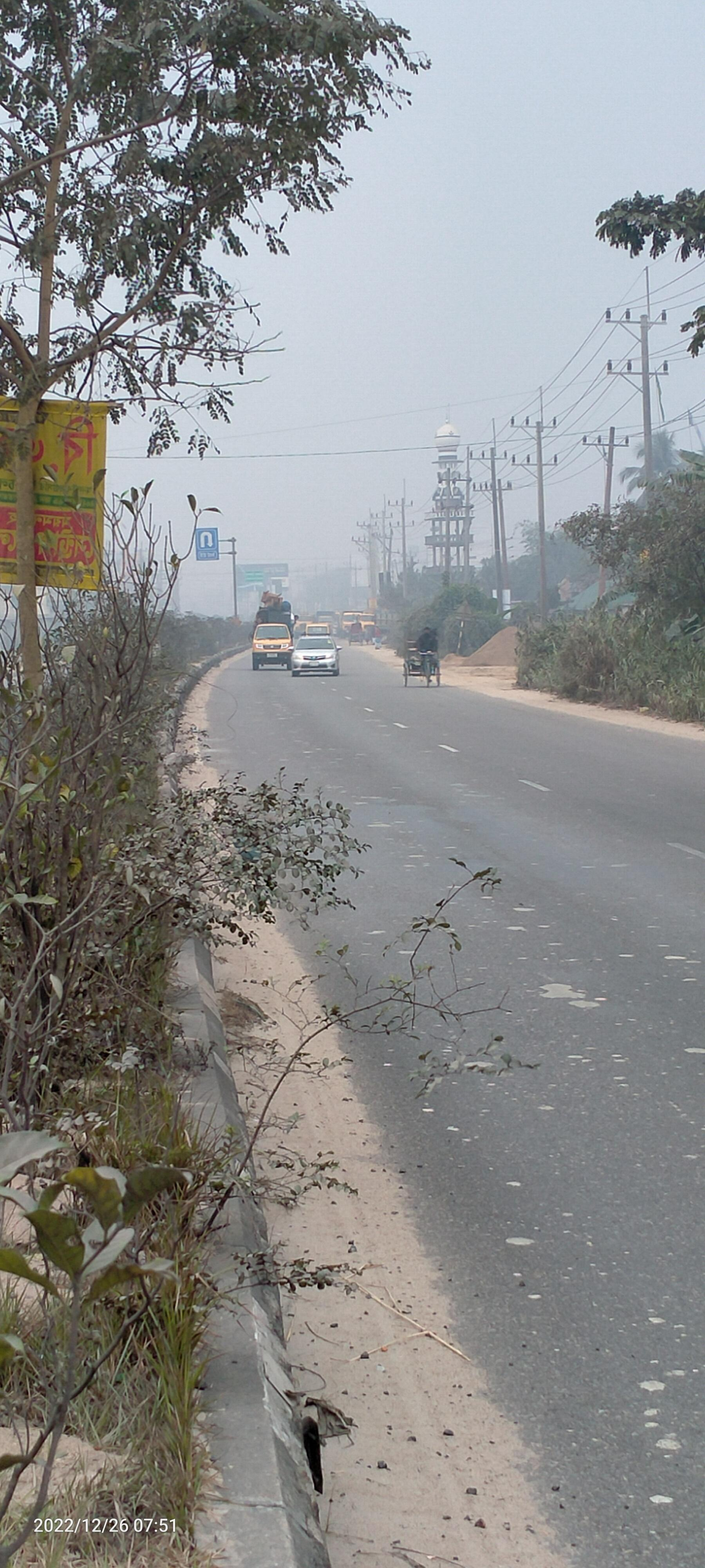Car: (288, 630, 342, 686)
Truck: (252, 596, 295, 667)
